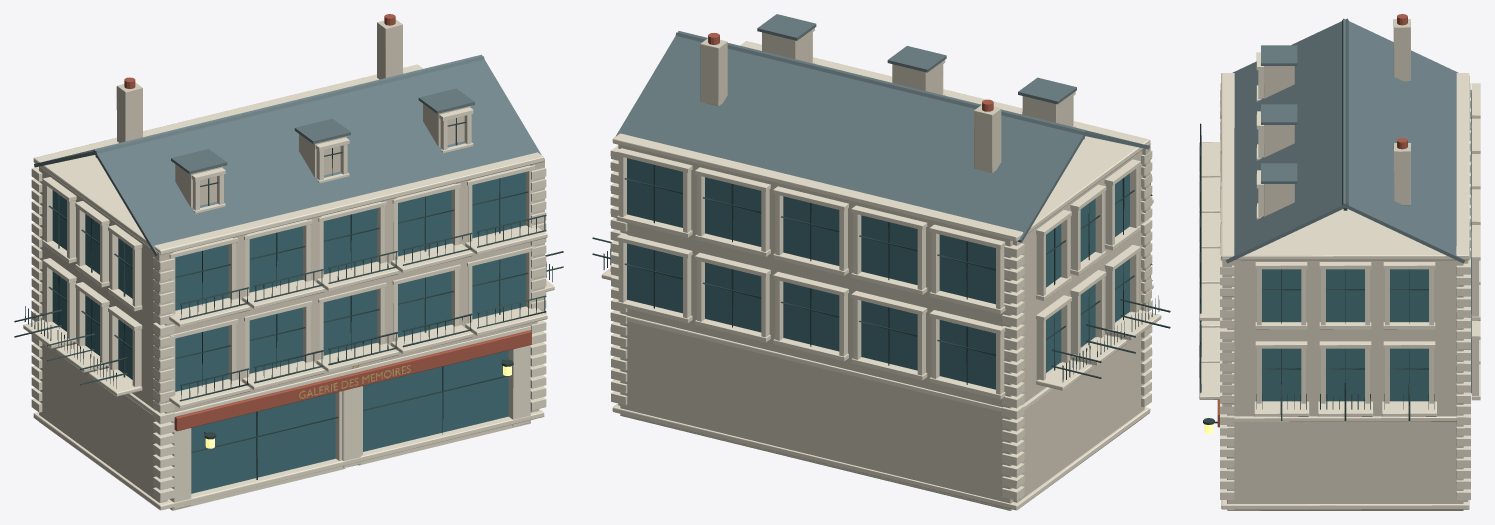
The model's file is Galerie-lod.glb.
The picture shows the model from 3 angles, left to right: view 1: azimuth 30°, elevation 25°; view 2: azimuth 150°, elevation 25°; view 3: azimuth 270°, elevation 25°; orthographic projection. The views are drawn at different scales.
Parts seen in each view (by area): view 1: Galerie_Carved ivory.001, Galerie_Window blue.001, Galerie_Zinc slate.001, Galerie_Paris limestone.001, Galerie_Forged midnight.001, Galerie_Terracotta.001; view 2: Galerie_Paris limestone.001, Galerie_Carved ivory.001, Galerie_Zinc slate.001, Galerie_Window blue.001, Galerie_Forged midnight.001; view 3: Galerie_Carved ivory.001, Galerie_Paris limestone.001, Galerie_Zinc slate.001, Galerie_Window blue.001, Galerie_Forged midnight.001.
Boxes of the visible parts, left/top/right/bottom form: Galerie_Carved ivory.001: left=23, top=64, right=554, bottom=510; Galerie_Window blue.001: left=52, top=172, right=525, bottom=493; Galerie_Zinc slate.001: left=34, top=54, right=541, bottom=255; Galerie_Paris limestone.001: left=39, top=19, right=544, bottom=509; Galerie_Forged midnight.001: left=14, top=118, right=563, bottom=479; Galerie_Terracotta.001: left=124, top=14, right=531, bottom=431; Galerie_Paris limestone.001: left=618, top=30, right=1150, bottom=510; Galerie_Carved ivory.001: left=601, top=28, right=1161, bottom=510; Galerie_Zinc slate.001: left=616, top=14, right=1149, bottom=242; Galerie_Window blue.001: left=627, top=158, right=1129, bottom=389; Galerie_Forged midnight.001: left=592, top=138, right=1170, bottom=384; Galerie_Carved ivory.001: left=1199, top=52, right=1480, bottom=509; Galerie_Paris limestone.001: left=1222, top=19, right=1468, bottom=510; Galerie_Zinc slate.001: left=1225, top=18, right=1465, bottom=263; Galerie_Window blue.001: left=1262, top=90, right=1471, bottom=401; Galerie_Forged midnight.001: left=1199, top=123, right=1434, bottom=424.
Size of the model in its own units: 29.91 by 20.81 by 15.44.
